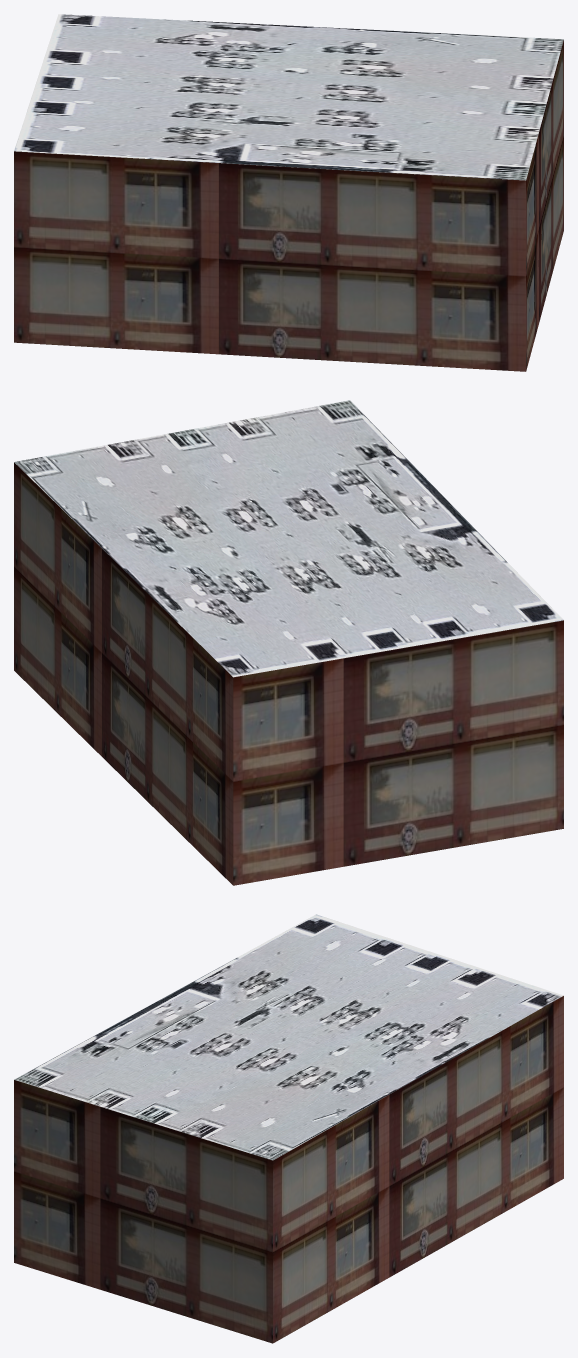
Rendered from ResTex__1867.fbx.
3 views of the same model, one above another, from view 1: azimuth 30°, elevation 25°; view 2: azimuth 150°, elevation 25°; view 3: azimuth 270°, elevation 25° (orthographic). The views are drawn at different scales.
Visible parts, largest first — view 1: CityEngineMaterial_13_m, CityEngineMaterial_8_m; view 2: CityEngineMaterial_13_m, CityEngineMaterial_8_m; view 3: CityEngineMaterial_13_m, CityEngineMaterial_8_m.
Part boxes in pixels (bbox=[...]): CityEngineMaterial_13_m: bbox=[14, 40, 563, 371]; CityEngineMaterial_8_m: bbox=[14, 14, 563, 180]; CityEngineMaterial_13_m: bbox=[14, 462, 563, 885]; CityEngineMaterial_8_m: bbox=[14, 400, 563, 677]; CityEngineMaterial_13_m: bbox=[14, 996, 563, 1343]; CityEngineMaterial_8_m: bbox=[14, 914, 563, 1160].
Bounding box in the file's own units: 17.31 × 6 × 16.34.
2 materials, 2 textured.
